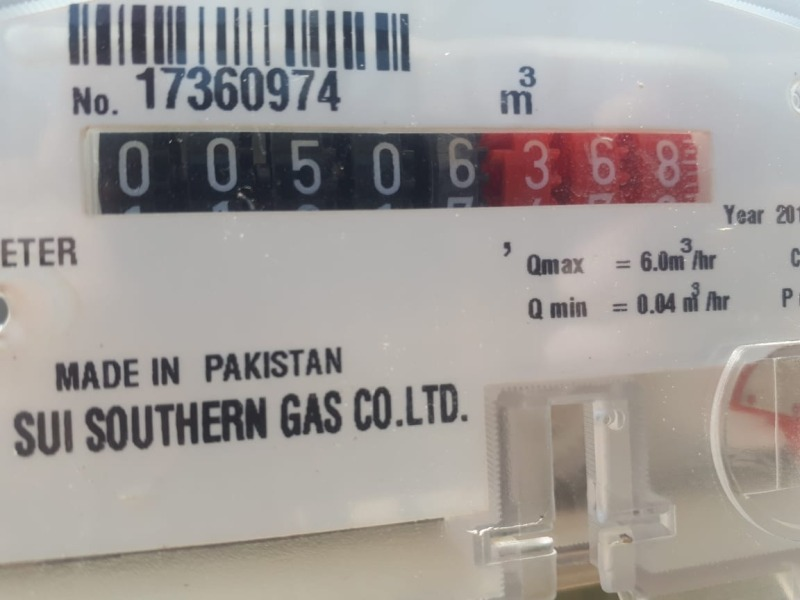ssgc: (69, 121, 716, 213)
